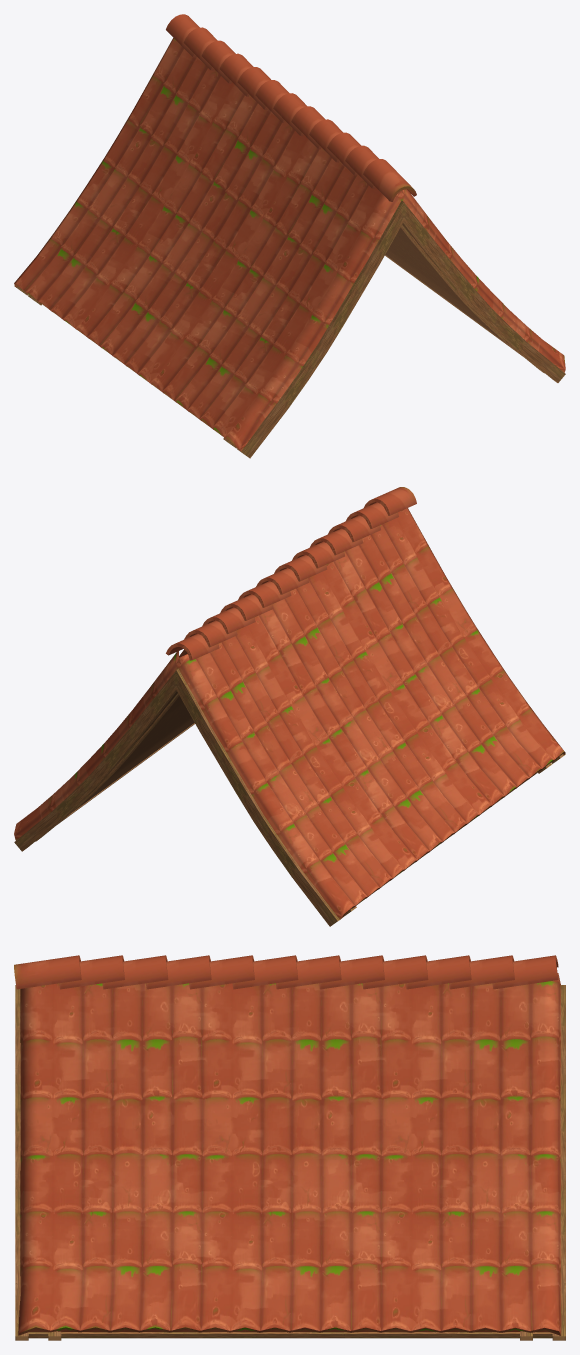
The model's file is roof-roundtiles-6x8.glb.
3 renders of one model, top to bottom at view 1: azimuth 30°, elevation 25°; view 2: azimuth 150°, elevation 25°; view 3: azimuth 270°, elevation 25°, orthographic. The views are drawn at different scales.
Parts seen in each view (by area): view 1: Roof_RoundTiles_6x8; view 2: Roof_RoundTiles_6x8; view 3: Roof_RoundTiles_6x8.
Boxes of the visible parts, x1=… form: Roof_RoundTiles_6x8: x1=14, y1=14, x2=565, y2=458; Roof_RoundTiles_6x8: x1=14, y1=487, x2=565, y2=926; Roof_RoundTiles_6x8: x1=14, y1=955, x2=565, y2=1340.
Bounding box in the file's own units: 8.25 × 5.67 × 9.68.
2 materials, 2 textured.
